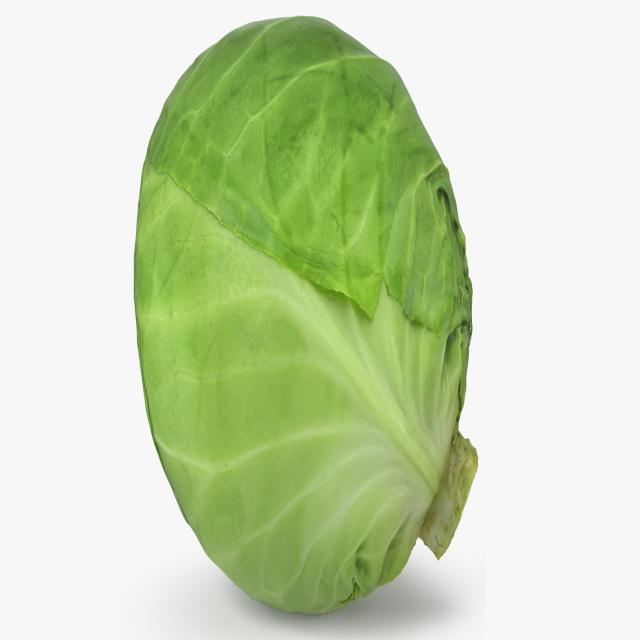cabbage: (130, 12, 480, 618)
